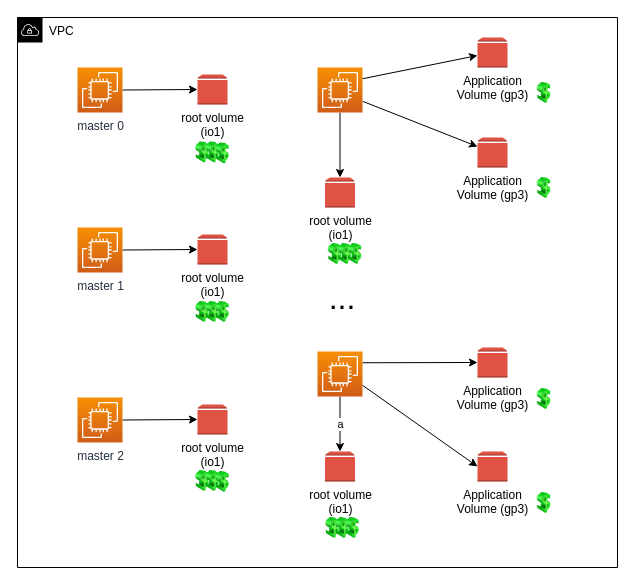
Some shapes in this 635 by 585 pixel diagram are drawn without their labels. The box of each missing label's shape, as (x1, y1, x2, y2) in pixels:
worker 0: (316, 66, 362, 112)
worker n: (316, 350, 362, 396)
